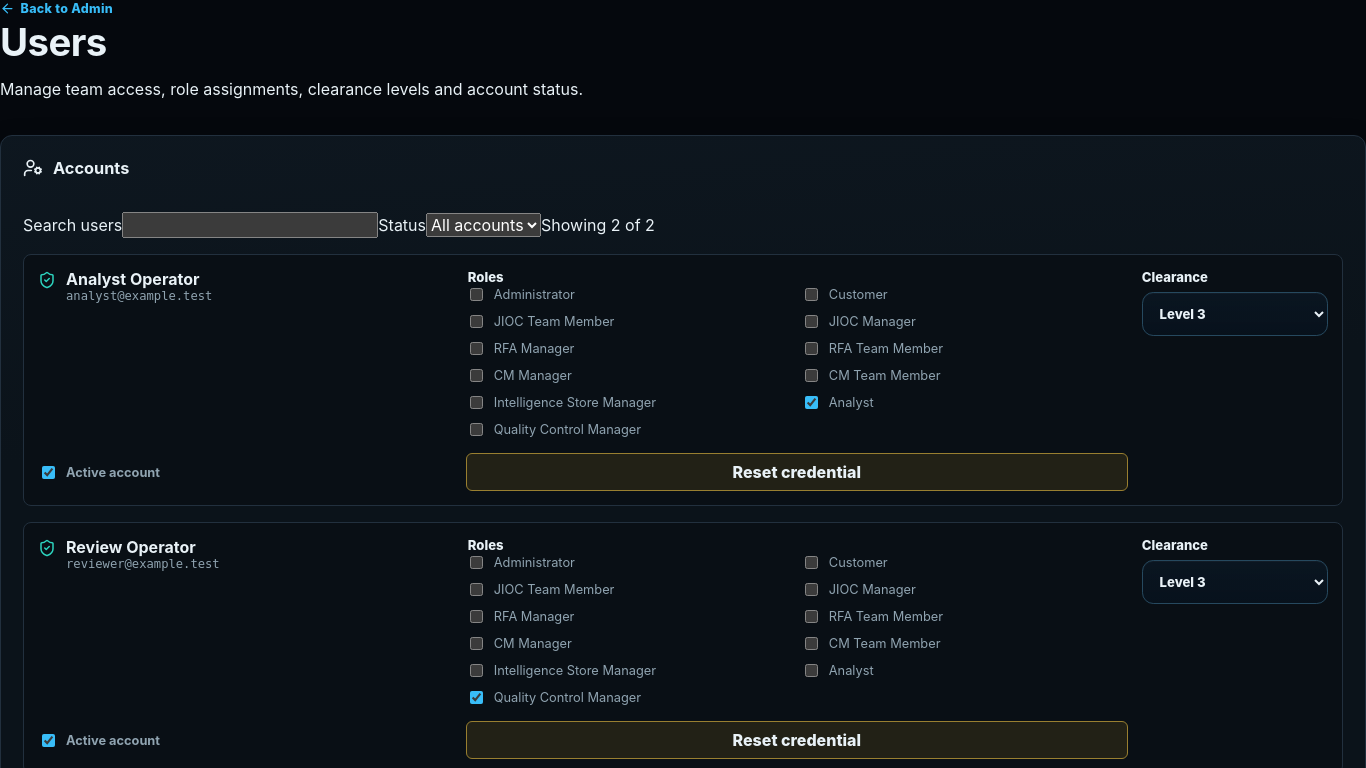
searches role names while preserving the existing status filter
Expected: the text "Review Operator" is shown, [66,537,196,557]
In the field labelled "Search users": {"x": 250, "y": 225} [122,212,378,238], type "quality control"
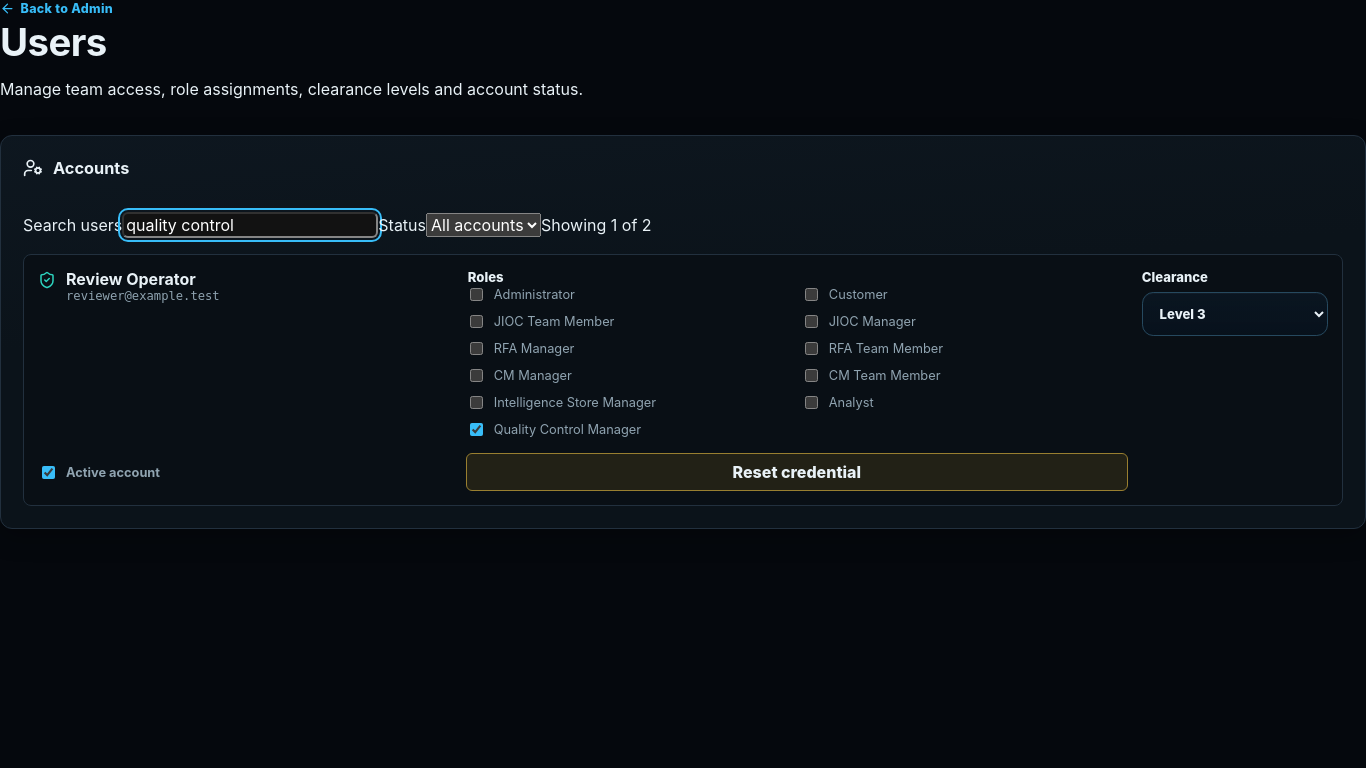
Expected: the text "Review Operator" is shown, [66,269,196,289]
Expected: the text "Analyst Operator" is gone
Expected: the text "Showing 1 of 2" is shown, [541,215,652,235]
